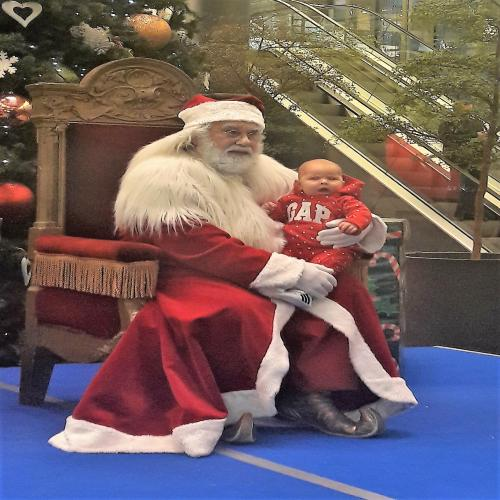Santa: (48, 94, 416, 457)
